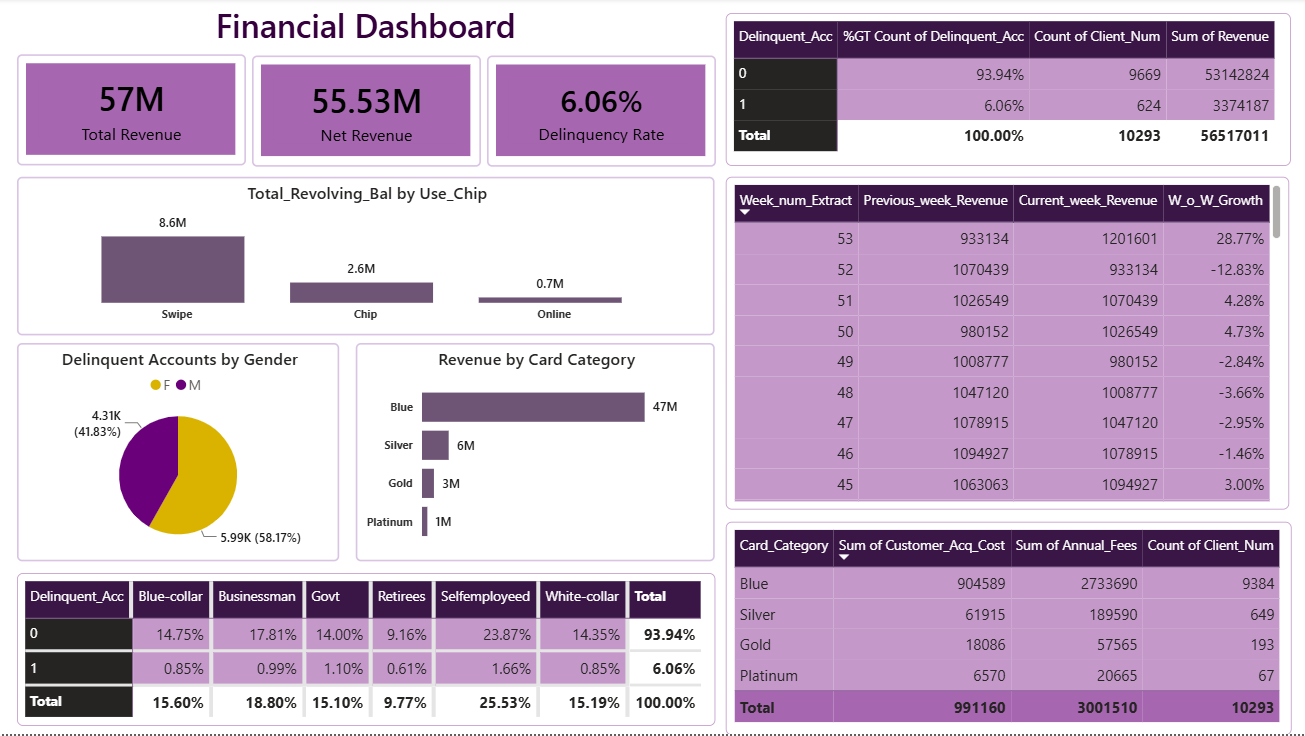

Layout of this report page (visuals, bound fields, positions):
{"tool":"powerbi","page":{"name":"Financial Dashboard","canvas":[1280,720],"ordinal":0},"visuals":[{"type":"barChart","title":"Revenue by Card Category","fields":{"Category":["credit_card_db cc_detail.Card_Category"],"Y":["Sum(credit_card_db cc_detail.Revenue)"]},"box":[351,337.5,351,214],"z":0},{"type":"tableEx","fields":{"Values":["credit_card_db cc_detail.Week_num_Extract","credit_card_db cc_detail.Previous_week_Revenue","credit_card_db cc_detail.Current_week_Revenue","credit_card_db cc_detail.W_o_W_Growth"]},"box":[712.9,175.1,551.3,325.6],"z":1000},{"type":"pivotTable","fields":{"Rows":["credit_card_db cc_detail.Delinquent_Acc"],"Values":["Min(credit_card_db cc_detail.Delinquent_Acc)","CountNonNull(credit_card_db cc_detail.Client_Num)","Sum(credit_card_db cc_detail.Revenue)"]},"box":[712.9,14.8,552.6,149.2],"z":2000},{"type":"pivotTable","fields":{"Columns":["credit_card_db cust_detail.Customer_Job"],"Rows":["credit_card_db cc_detail.Delinquent_Acc"],"Values":["Min(credit_card_db cc_detail.Delinquent_Acc)"]},"box":[19.7,562.4,683.3,149.2],"z":3000},{"type":"tableEx","fields":{"Values":["credit_card_db cc_detail.Card_Category","Sum(credit_card_db cc_detail.Customer_Acq_Cost)","Sum(credit_card_db cc_detail.Annual_Fees)","credit_card_db cc_detail.Client_Num"]},"box":[712.9,511.9,553.8,208.4],"z":4000},{"type":"pieChart","title":"Delinquent Accounts by Gender","fields":{"Category":["credit_card_db cust_detail.Gender"],"Y":["CountNonNull(credit_card_db cc_detail.Delinquent_Acc)"]},"box":[19.6,337.5,315.5,214],"z":5000},{"type":"clusteredColumnChart","title":"Total_Revolving_Bal by Use_Chip","fields":{"Category":["credit_card_db cc_detail.Use_Chip"],"Y":["Sum(credit_card_db cc_detail.Total_Revolving_Bal)"]},"box":[19.6,174.9,682.3,155.3],"z":6000},{"type":"textbox","box":[19.4,0,682.1,60.8],"z":7000},{"type":"cardVisual","fields":{"Data":["Sum(credit_card_db cc_detail.Revenue)"]},"box":[19.6,55,223.8,108.8],"z":8000},{"type":"cardVisual","fields":{"Data":["credit_card_db cc_detail.Net Revenue"]},"box":[249.8,55.7,223.8,108.8],"z":8001},{"type":"cardVisual","fields":{"Data":["credit_card_db cc_detail.Delinquency Rate"]},"box":[478.9,55.7,223.8,108.8],"z":8002}]}

Visuals, with their boxes in screenshot pixels (x1, y1, x2, y2), scaled from the page's 1280x720 canvas onto the 1305x736 screenshot:
"Revenue by Card Category" barChart: x1=358 y1=345 x2=716 y2=564
tableEx - credit_card_db cc_detail.Week_num_Extract x credit_card_db cc_detail.Previous_week_Revenue: x1=727 y1=179 x2=1289 y2=512
pivotTable - credit_card_db cc_detail.Delinquent_Acc x Min(credit_card_db cc_detail.Delinquent_Acc): x1=727 y1=15 x2=1290 y2=168
pivotTable - credit_card_db cust_detail.Customer_Job x credit_card_db cc_detail.Delinquent_Acc: x1=20 y1=575 x2=717 y2=727
tableEx - credit_card_db cc_detail.Card_Category x Sum(credit_card_db cc_detail.Customer_Acq_Cost): x1=727 y1=523 x2=1291 y2=735
"Delinquent Accounts by Gender" pieChart: x1=20 y1=345 x2=342 y2=564
"Total_Revolving_Bal by Use_Chip" clusteredColumnChart: x1=20 y1=179 x2=716 y2=338
textbox: x1=20 y1=0 x2=715 y2=62
cardVisual - Sum(credit_card_db cc_detail.Revenue): x1=20 y1=56 x2=248 y2=167
cardVisual - credit_card_db cc_detail.Net Revenue: x1=255 y1=57 x2=483 y2=168
cardVisual - credit_card_db cc_detail.Delinquency Rate: x1=488 y1=57 x2=716 y2=168
